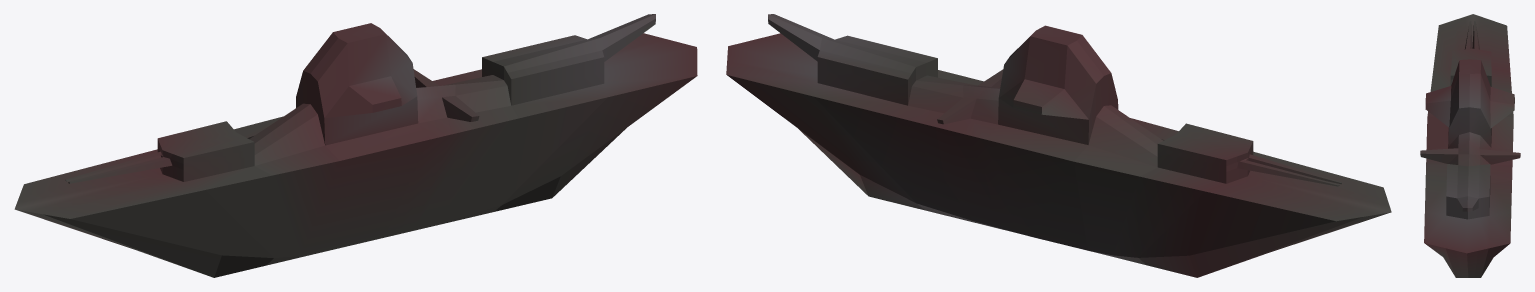
File: battleship2.glb
The picture shows the model from 3 angles, left to right: view 1: azimuth 30°, elevation 25°; view 2: azimuth 150°, elevation 25°; view 3: azimuth 270°, elevation 25°; orthographic projection. The views are drawn at different scales.
Visible parts, largest first — view 1: Cube; view 2: Cube; view 3: Cube.
Boxes of the visible parts, x1=… form: Cube: x1=14, y1=14, x2=697, y2=277; Cube: x1=726, y1=14, x2=1391, y2=277; Cube: x1=1420, y1=14, x2=1520, y2=277.
Size of the model in its own units: 1.16 by 0.3315 by 0.2063.
